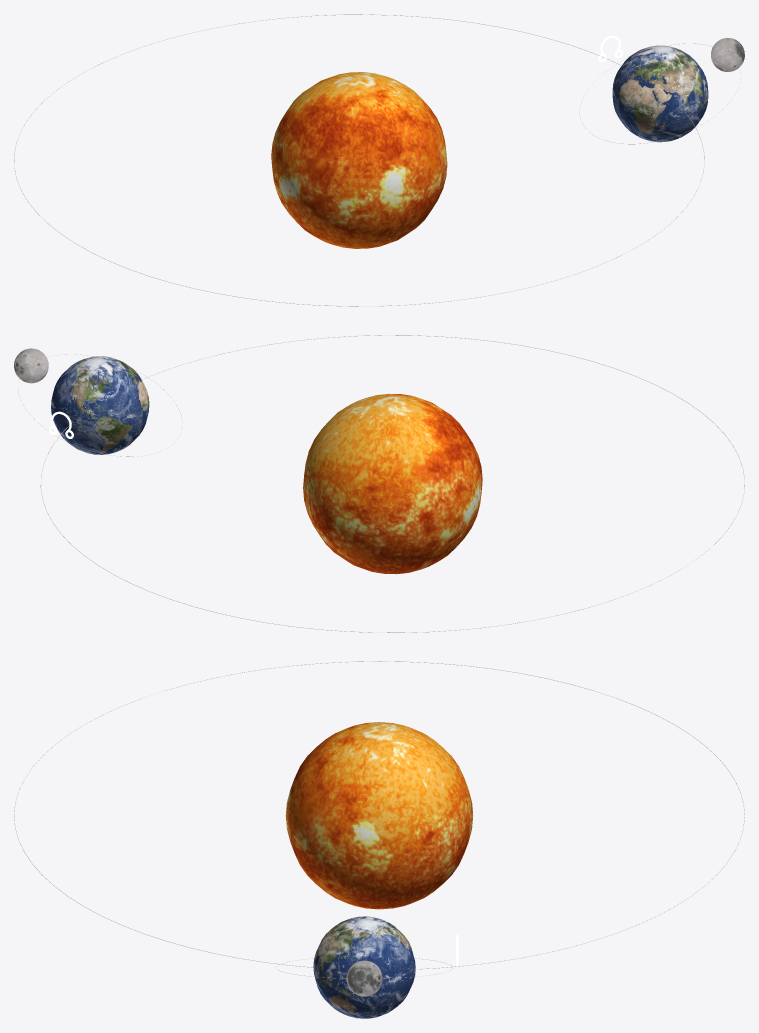
Rendered from Rahu.glb.
3 renders of one model, top to bottom at view 1: azimuth 30°, elevation 25°; view 2: azimuth 150°, elevation 25°; view 3: azimuth 270°, elevation 25°, orthographic. The views are drawn at different scales.
Parts seen in each view (by area): view 1: Sun, Earth, Circle.001, Moon; view 2: Sun, Earth, Circle.001, Moon; view 3: Sun, Earth, Circle.001, Moon.
Part boxes in pixels (x1,y1,x2,y2): Sun: (271, 72, 447, 248); Earth: (612, 45, 708, 142); Circle.001: (14, 14, 704, 306); Moon: (711, 38, 744, 71); Sun: (303, 393, 482, 574); Earth: (51, 356, 149, 454); Circle.001: (40, 335, 744, 632); Moon: (14, 348, 48, 383); Sun: (285, 722, 473, 909); Earth: (313, 916, 415, 1018); Circle.001: (14, 661, 744, 969); Moon: (346, 960, 382, 996).
Bounding box in the file's own units: 13.43 × 3.05 × 11.89.
Materials: 6 (3 with a texture image).
